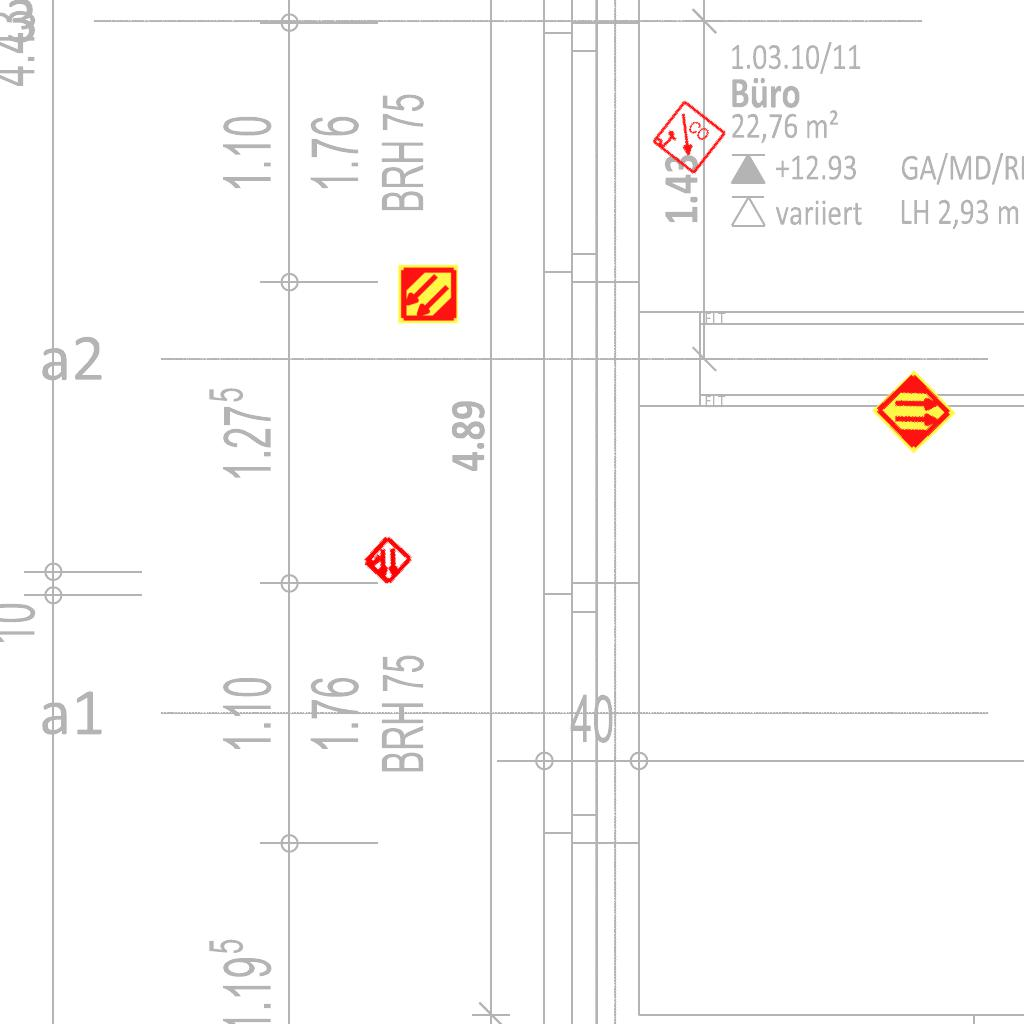ASR_Ansaugrauchmelder: (870, 368, 958, 456), (397, 263, 459, 325)
OT_Multisensormelder_(Kombination_RMO_WMD): (347, 521, 427, 601)
ROA_Rauchmelder_optisch_mit_Signalgeber_(Sockelsirene): (649, 98, 729, 178)
